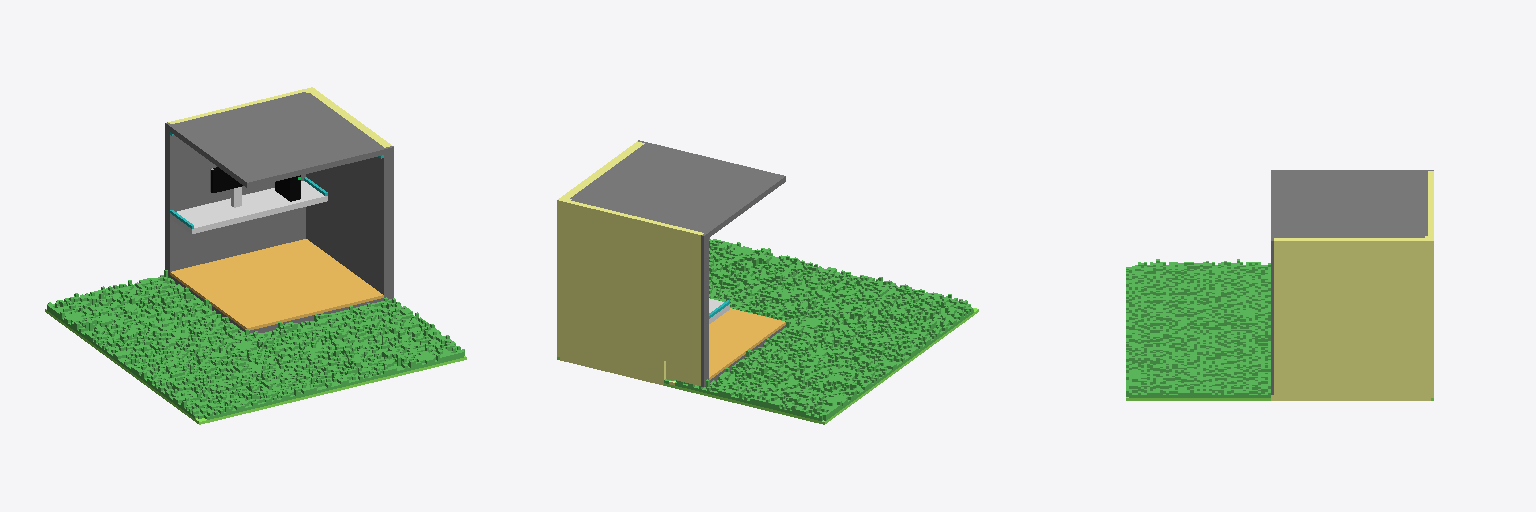
The picture shows the model from 3 angles: view 1: azimuth 30°, elevation 25°; view 2: azimuth 150°, elevation 25°; view 3: azimuth 270°, elevation 25°; orthographic projection.
Visible parts, largest first — view 1: object 1; view 2: object 1; view 3: object 1.
Part boxes in pixels (x1,y1,x2,y2): object 1: (45, 87, 466, 424); object 1: (557, 140, 978, 424); object 1: (1126, 170, 1433, 400).
Size of the model in its own units: 10 by 5.7 by 10.
Materials: 1 (1 with a texture image).